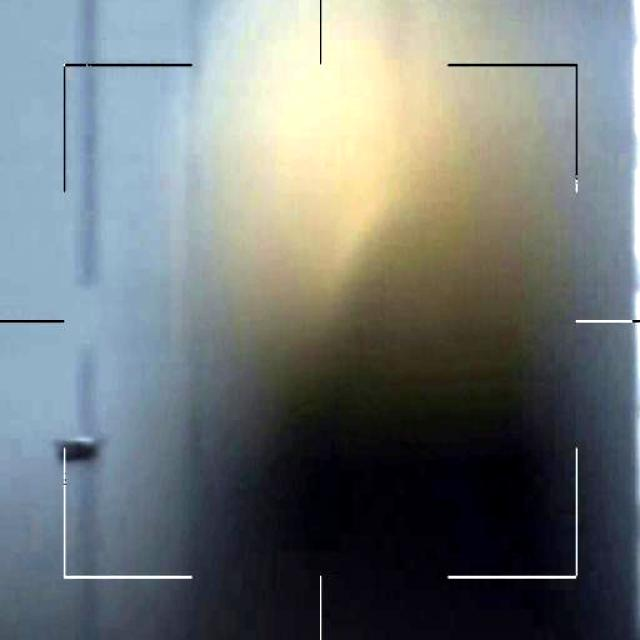bird: (50, 425, 106, 465)
